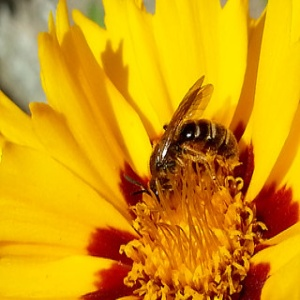bee: (123, 71, 246, 205)
